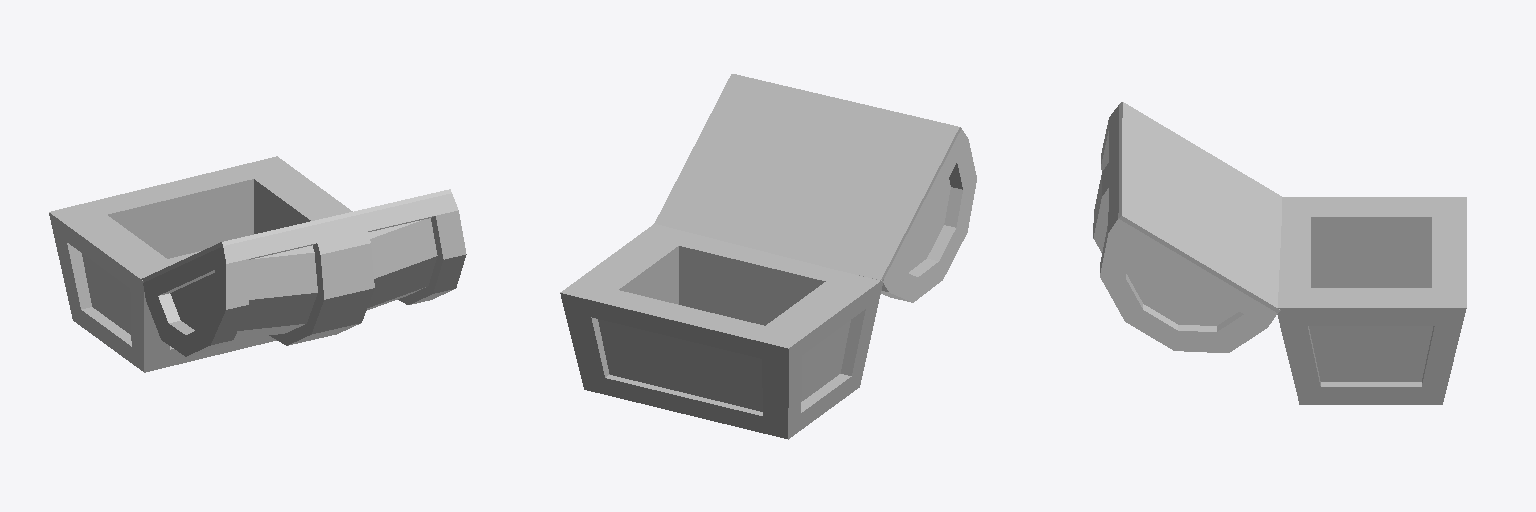
The model's file is open_chest.obj.
3 renders of one model, left to right at view 1: azimuth 30°, elevation 25°; view 2: azimuth 150°, elevation 25°; view 3: azimuth 270°, elevation 25°, orthographic.
Visible parts, largest first — view 1: treasure_chest.001; view 2: treasure_chest.001; view 3: treasure_chest.001.
Part boxes in pixels (x1,y1,x2,y2): treasure_chest.001: (49, 156, 466, 372); treasure_chest.001: (560, 74, 976, 439); treasure_chest.001: (1093, 102, 1466, 404).
Bounding box in the file's own units: 0.9721 × 0.7511 × 1.28.